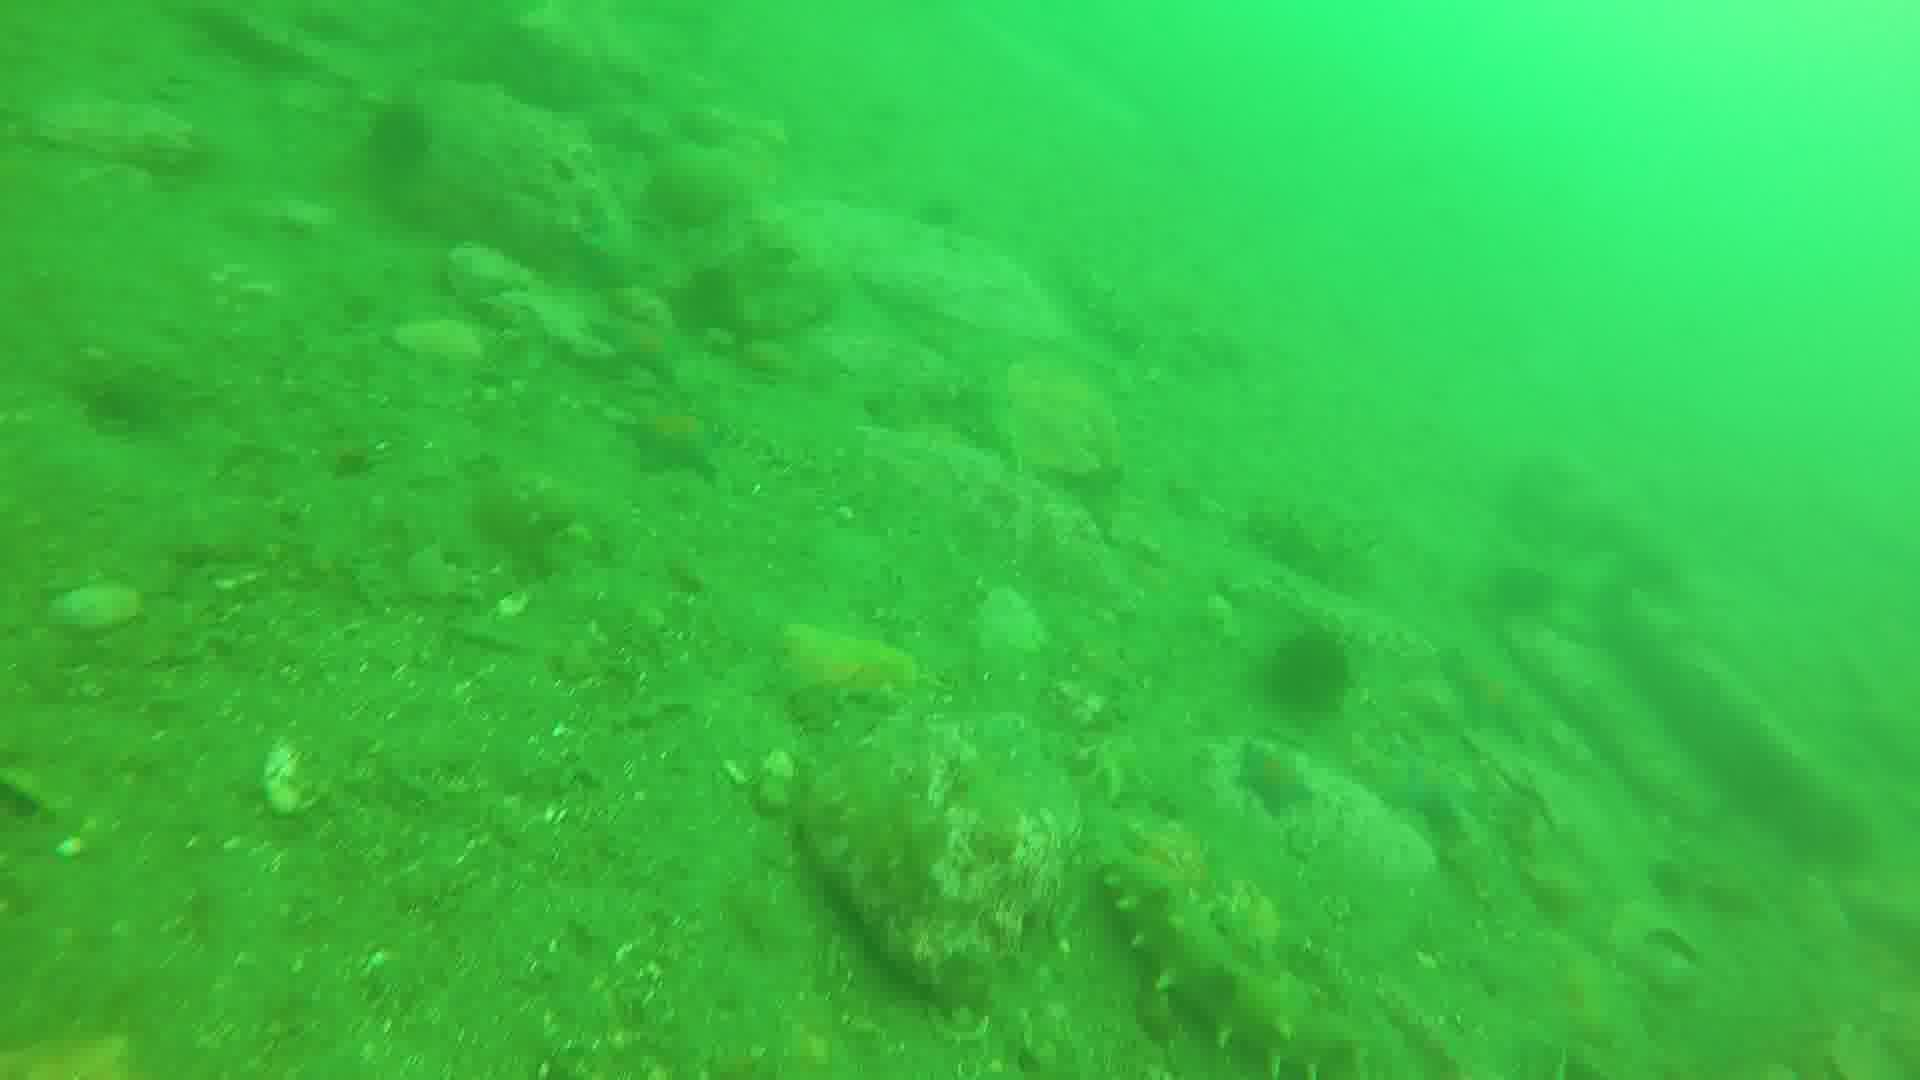echinus: (1257, 628, 1366, 716)
holothurian: (1112, 849, 1370, 1080)
starfish: (625, 404, 740, 477), (1395, 757, 1495, 833), (1232, 736, 1317, 811)
